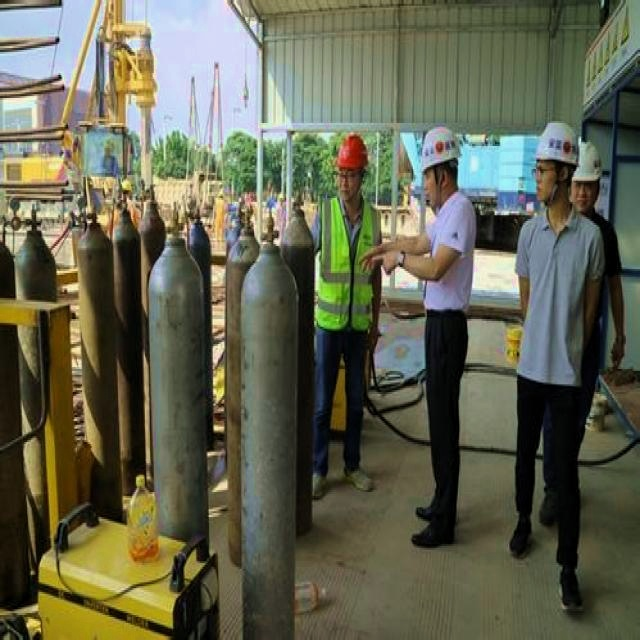Con_Chaleco: (320, 192, 380, 328)
Sin_Chaleco: (519, 206, 597, 383), (417, 191, 477, 312)
